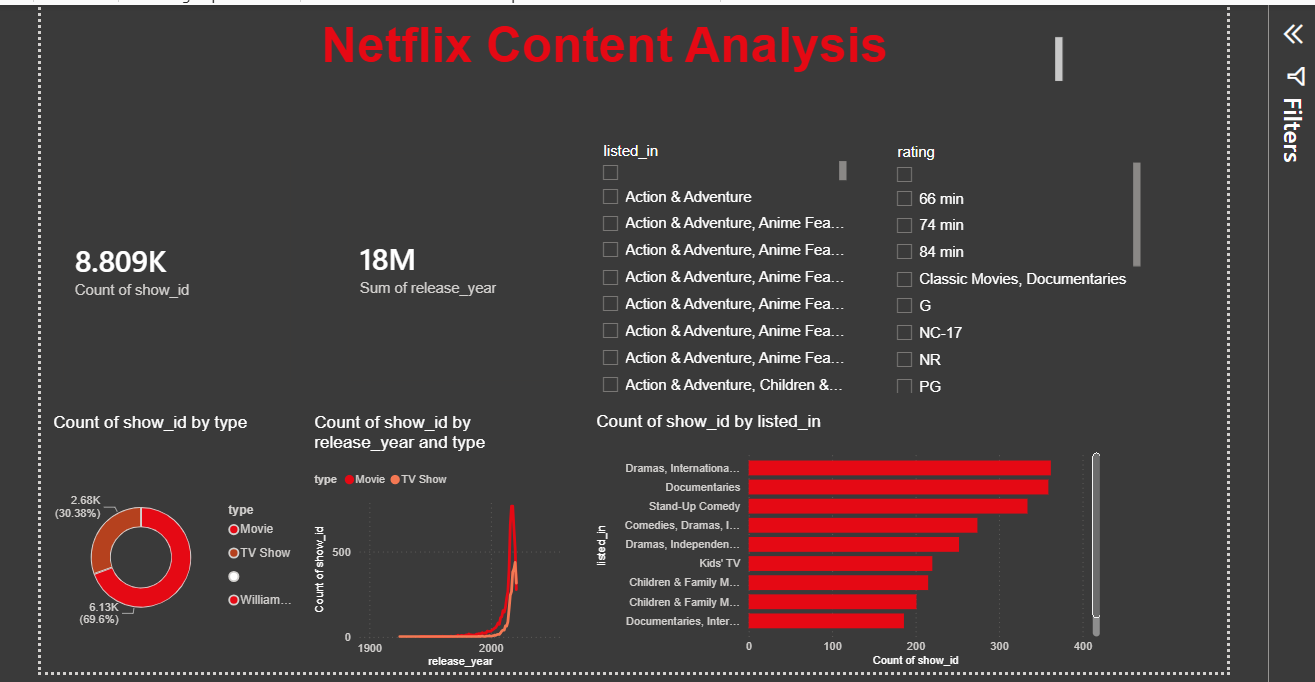

Layout of this report page (visuals, bound fields, positions):
{"tool":"powerbi","page":{"name":"Page 1","canvas":[1280,720],"ordinal":0},"visuals":[{"type":"cardVisual","fields":{"Data":["CountNonNull(netflix_titles.show_id)"]},"box":[6.7,144.5,280,280],"z":0},{"type":"slicer","fields":{"Values":["netflix_titles.listed_in"]},"box":[594.6,142.8,280,280],"z":2000},{"type":"slicer","fields":{"Values":["netflix_titles.rating"]},"box":[912.1,144.5,280,280],"z":3000},{"type":"donutChart","fields":{"Category":["netflix_titles.type"],"Y":["CountNonNull(netflix_titles.show_id)"]},"box":[8.4,440.1,280,280],"z":4000},{"type":"lineChart","fields":{"Category":["netflix_titles.release_year"],"Series":["netflix_titles.type"],"Y":["CountNonNull(netflix_titles.show_id)"]},"box":[290.6,440.1,280,280],"z":5000},{"type":"clusteredBarChart","fields":{"Category":["netflix_titles.listed_in"],"Y":["CountNonNull(netflix_titles.show_id)"]},"box":[594.3,438.8,553.8,280.1],"z":6000},{"type":"textbox","box":[76.1,0,1031.7,95.1],"z":7000},{"type":"cardVisual","fields":{"Data":["Sum(netflix_titles.release_year)"]},"box":[314.1,142.5,255.8,280.1],"z":7001}]}

Visuals, with their boxes on the page's 1280x720 design canvas (x1, y1, x2, y2). These are canvas units, not pixel positions in the 1315x682 screenshot, which may show the page scaled, cropped or inside an application window:
cardVisual - CountNonNull(netflix_titles.show_id): (7,144,287,424)
slicer - netflix_titles.listed_in: (595,143,875,423)
slicer - netflix_titles.rating: (912,144,1192,424)
donutChart - netflix_titles.type x CountNonNull(netflix_titles.show_id): (8,440,288,720)
lineChart - netflix_titles.release_year x netflix_titles.type: (291,440,571,720)
clusteredBarChart - netflix_titles.listed_in x CountNonNull(netflix_titles.show_id): (594,439,1148,719)
textbox: (76,0,1108,95)
cardVisual - Sum(netflix_titles.release_year): (314,142,570,423)
